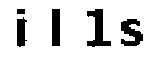1: (81, 5, 113, 50)
i: (12, 7, 33, 51)
l: (45, 8, 67, 51)
s: (118, 17, 145, 48)
